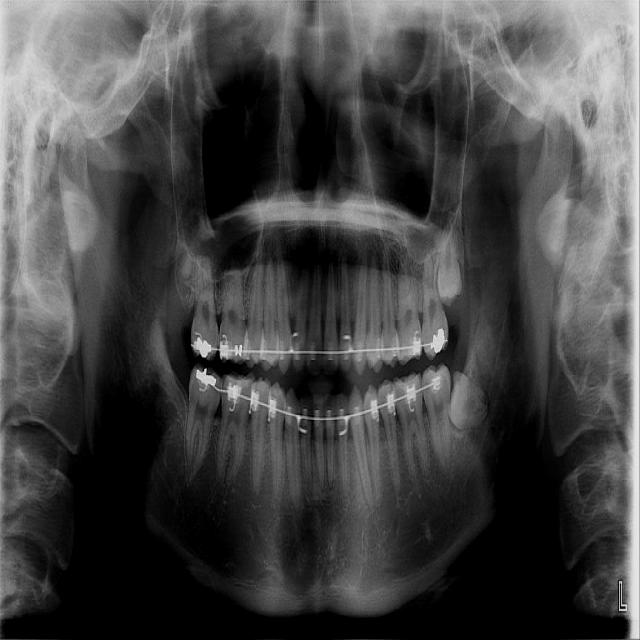impacted tooth: (449, 370, 490, 428), (436, 224, 461, 301)
